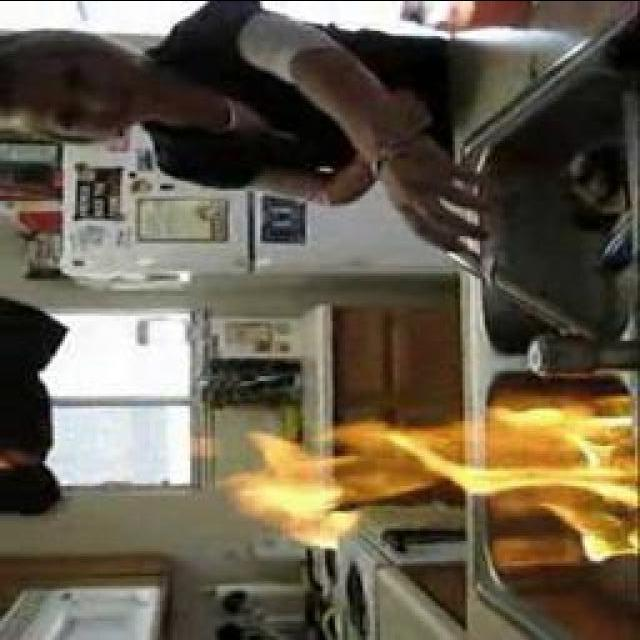Fire: (233, 386, 636, 558)
